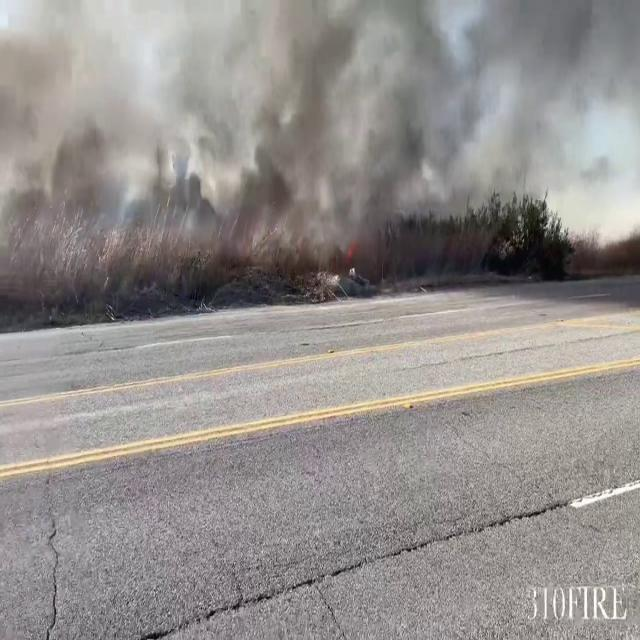Smoke: (0, 0, 463, 270), (457, 0, 640, 217)
